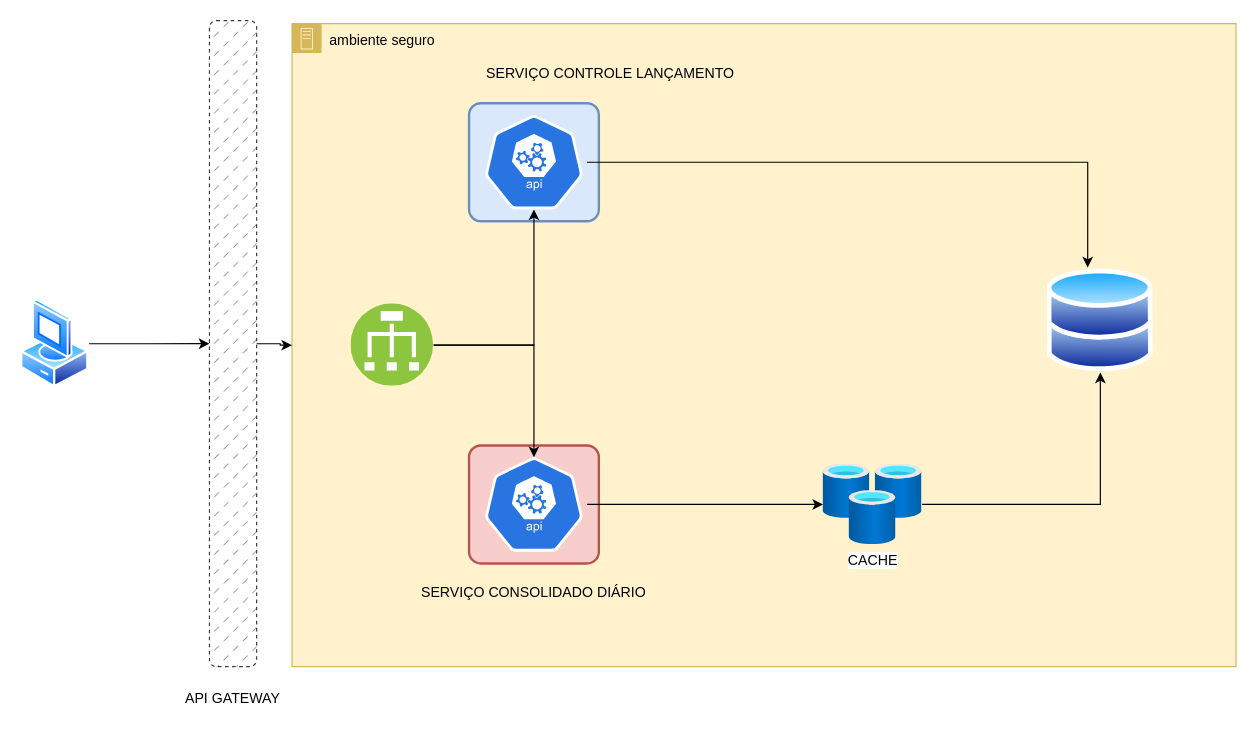
Image size: 1257x737. Some labels were removed from this diagram. Each missing label, with the centre of its shape:
"CIRCUIT BREAKER" goes at point 391,344.
"DATABASE" goes at point 1100,320.
